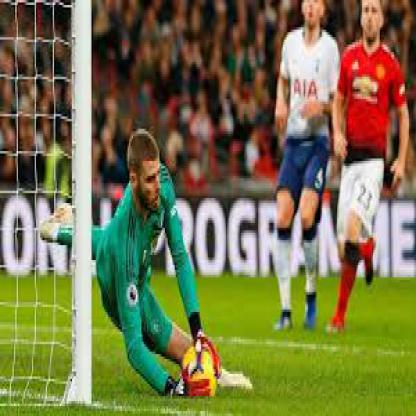goal: (32, 140, 251, 412)
